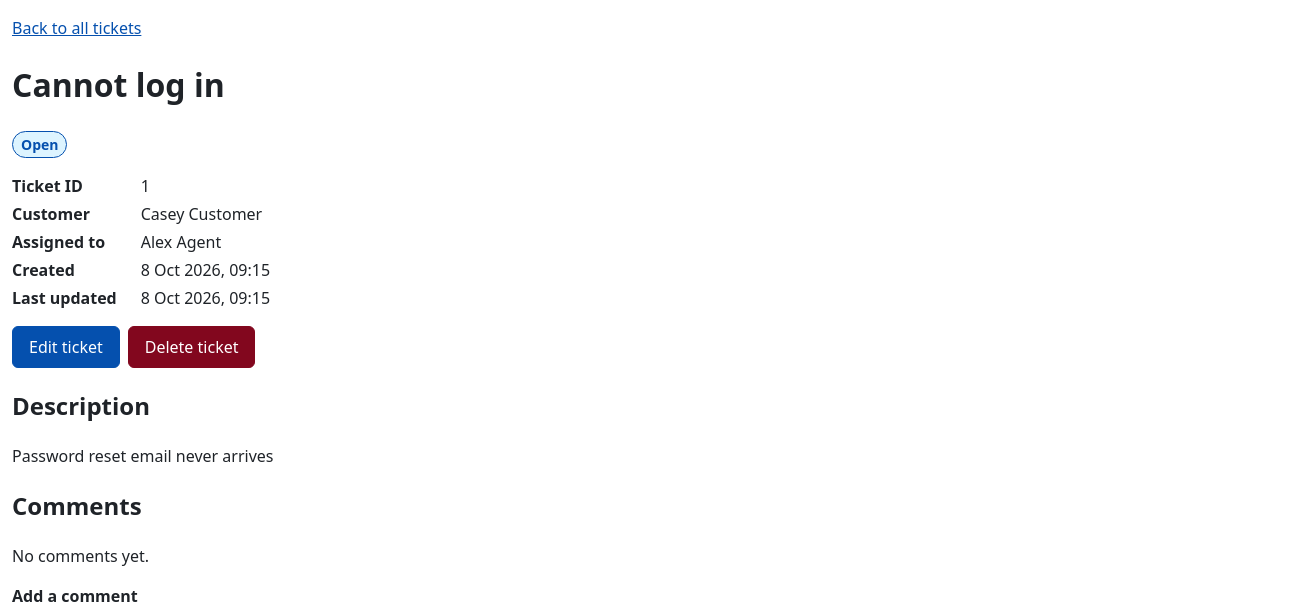
Test: TicketDetailPage › deleting the ticket › shows the API's message when it refuses (409)
Check: the heading "Cannot log in" is shown, box [12,63,225,106]
Click the button "Delete ticket".
click(192, 347)  # box [128,326,256,368]
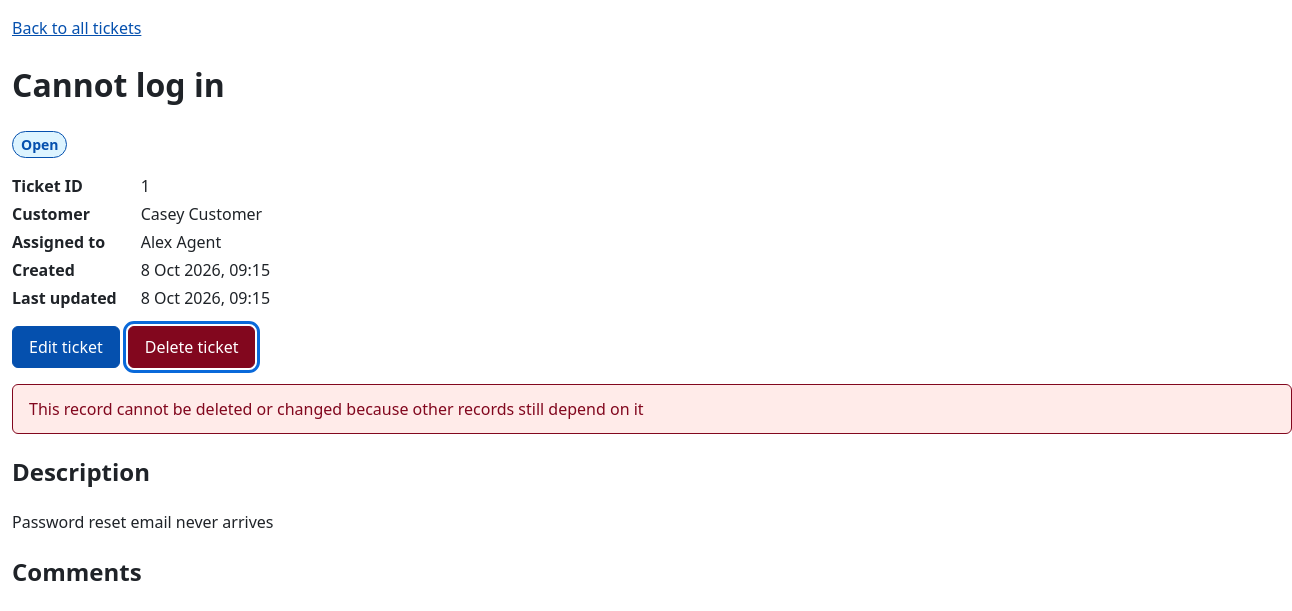
Check: the message shows "cannot be deleted", box [29,398,644,420]
